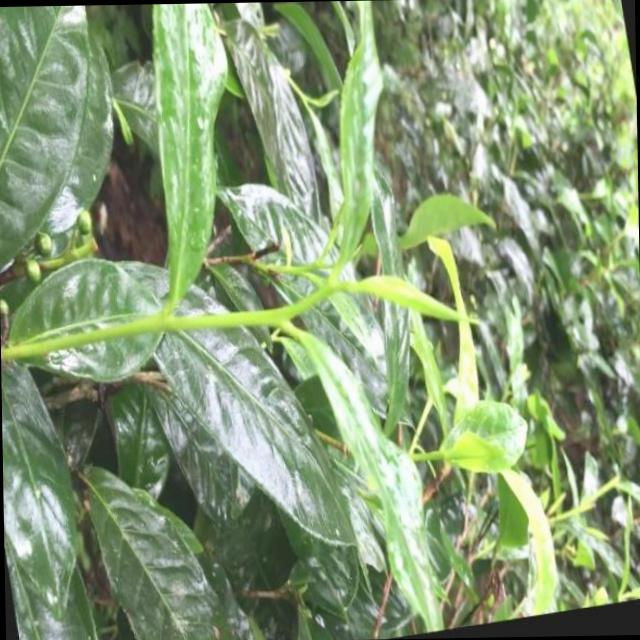Stem: (229, 309, 286, 326), (283, 265, 300, 273)
